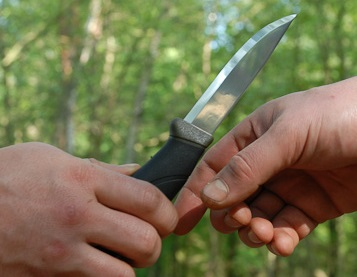knife: (91, 4, 305, 225)
